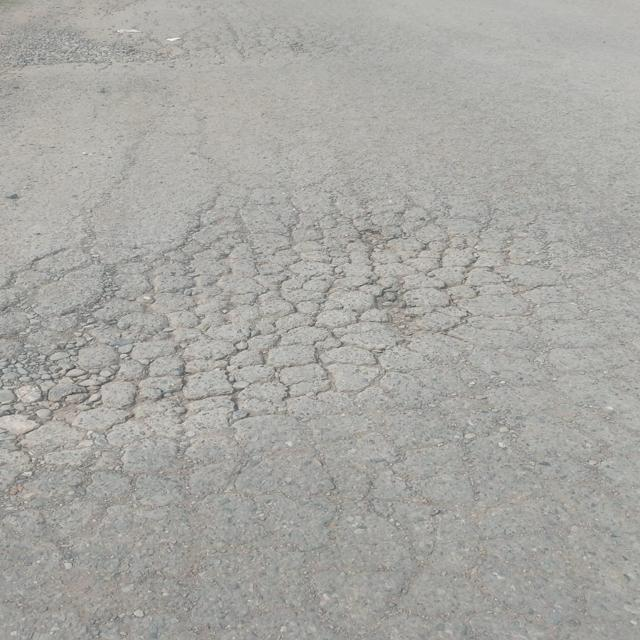Retak Buaya: (0, 198, 536, 454)
